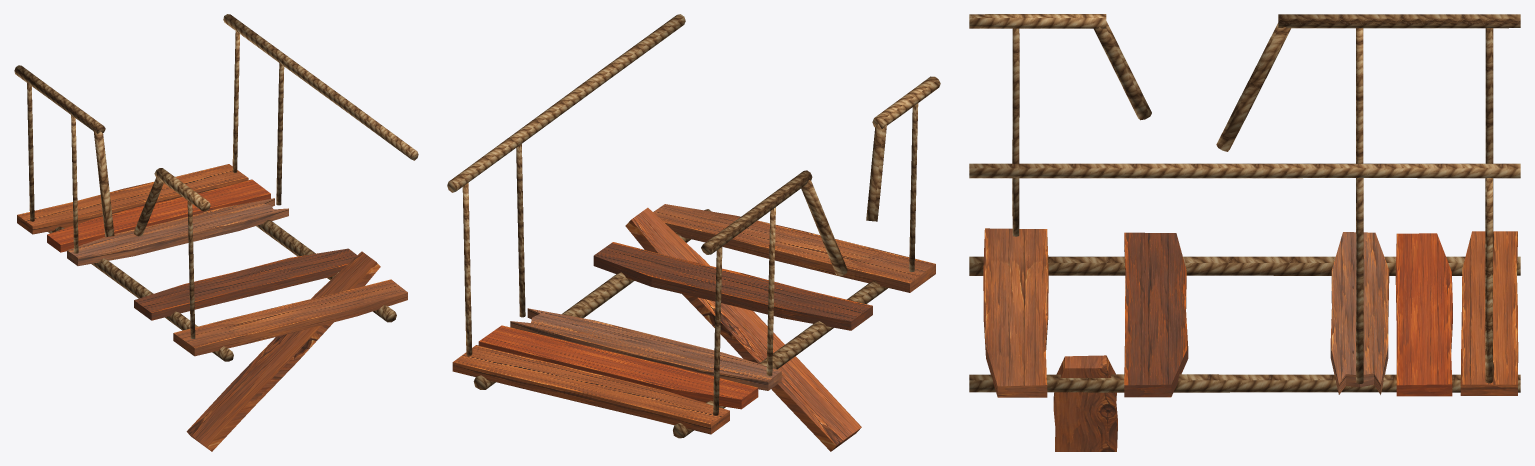
The model's file is bridge_plank_broken.glb.
3 renders of one model, left to right at view 1: azimuth 30°, elevation 25°; view 2: azimuth 150°, elevation 25°; view 3: azimuth 270°, elevation 25°, orthographic. The views are drawn at different scales.
Parts seen in each view (by area): view 1: model; view 2: model; view 3: model.
Boxes of the visible parts, x1,y1,x2,y2 form: model: (14, 14, 418, 451); model: (447, 14, 940, 451); model: (969, 14, 1520, 451).
Bounding box in the file's own units: 1.39 × 1.64 × 1.99.
9 materials, 9 textured.
